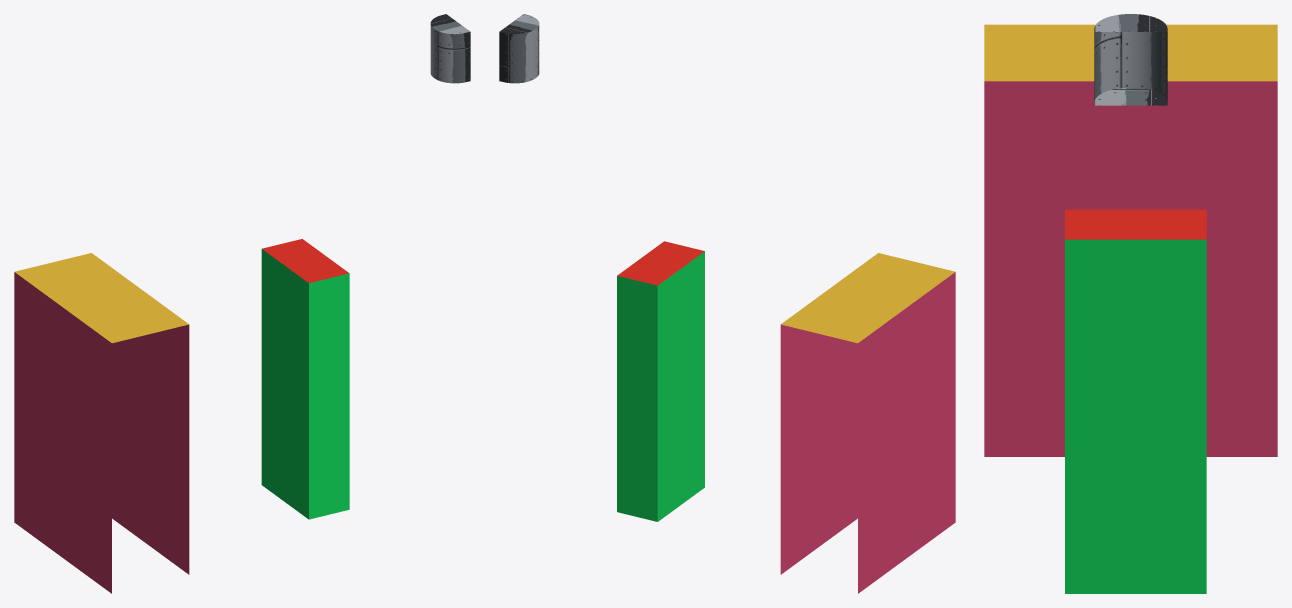
The model's file is 03endplatform2.fbx.
The picture shows the model from 3 angles, left to right: view 1: azimuth 30°, elevation 25°; view 2: azimuth 150°, elevation 25°; view 3: azimuth 270°, elevation 25°; orthographic projection. The views are drawn at different scales.
Visible parts, largest first — view 1: Plane.007, Plane.006, Stairs__1_.022; view 2: Plane.007, Plane.006, Stairs__1_.022; view 3: Plane.007, Plane.006, Stairs__1_.022.
Boxes of the visible parts, left/top/right/bottom form: Plane.007: left=14, top=253, right=189, bottom=593; Plane.006: left=261, top=239, right=349, bottom=519; Stairs__1_.022: left=430, top=14, right=470, bottom=83; Plane.007: left=780, top=253, right=955, bottom=593; Plane.006: left=617, top=241, right=704, bottom=521; Stairs__1_.022: left=499, top=14, right=539, bottom=83; Plane.007: left=984, top=24, right=1277, bottom=456; Plane.006: left=1065, top=209, right=1206, bottom=593; Stairs__1_.022: left=1094, top=14, right=1167, bottom=105.
Size of the model in its own units: 486 by 515 by 208.
